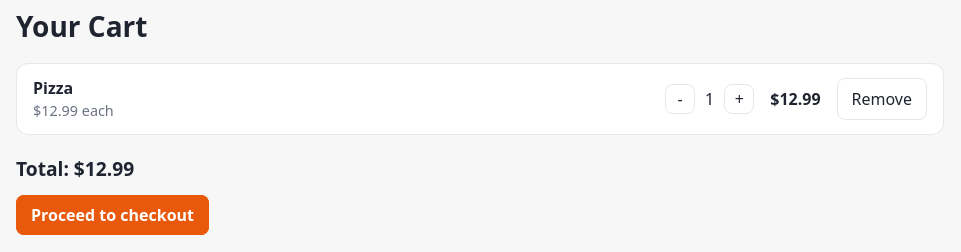
Test: Cart › removes the item when decreasing from 1
Expected: the text "Pizza" is shown, [33,77,73,99]
Click the button named "decrease quantity of pizza".
click(680, 99)  # box [665,84,695,114]
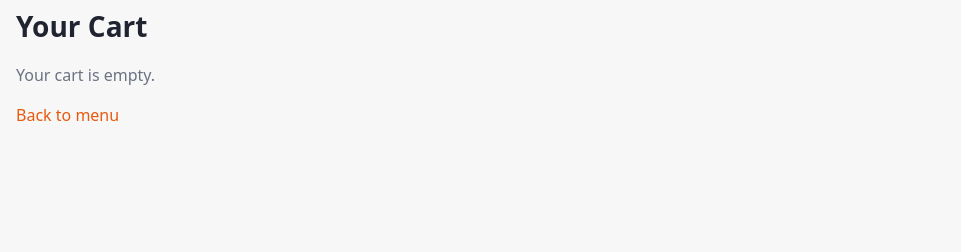
Expected: the text "Pizza" is gone
Expected: the text "Your cart is empty." is shown, [16,64,155,86]
